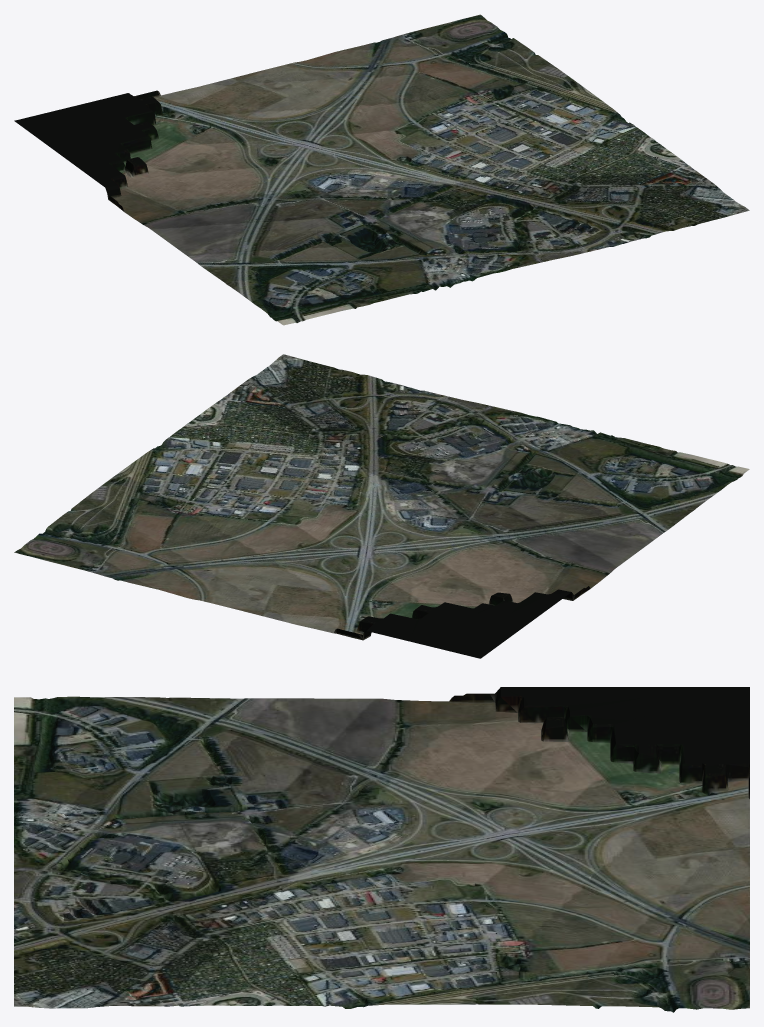
Rendered from map_10_248_427.dae.
The picture shows the model from 3 angles, top to bottom: view 1: azimuth 30°, elevation 25°; view 2: azimuth 150°, elevation 25°; view 3: azimuth 270°, elevation 25°; orthographic projection. The views are drawn at different scales.
Visible parts, largest first — view 1: Ter0; view 2: Ter0; view 3: Ter0.
Boxes of the visible parts, <box> form: Ter0: <box>14,14,749,325</box>; Ter0: <box>14,354,749,658</box>; Ter0: <box>14,687,749,1012</box>.
Size of the model in its own units: 2044 by 2044 by 61.75.
2 materials, 2 textured.
